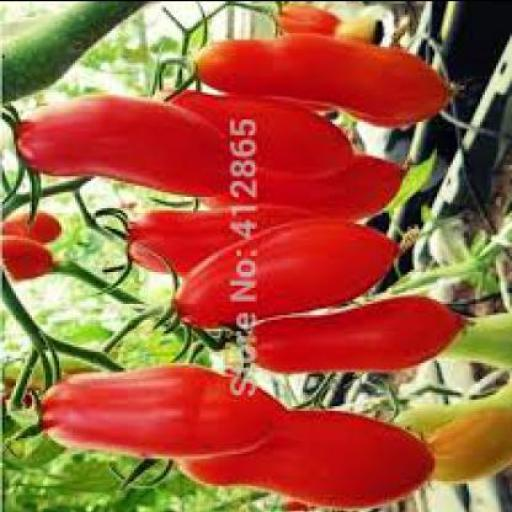biodegradable: (174, 400, 436, 511), (170, 221, 410, 329), (14, 96, 248, 198), (38, 364, 278, 462), (193, 42, 462, 128), (246, 298, 470, 373), (125, 212, 369, 276), (193, 160, 410, 214), (394, 384, 509, 485), (424, 316, 510, 370), (0, 239, 57, 282), (271, 7, 343, 39), (0, 214, 59, 244), (276, 501, 326, 511)
